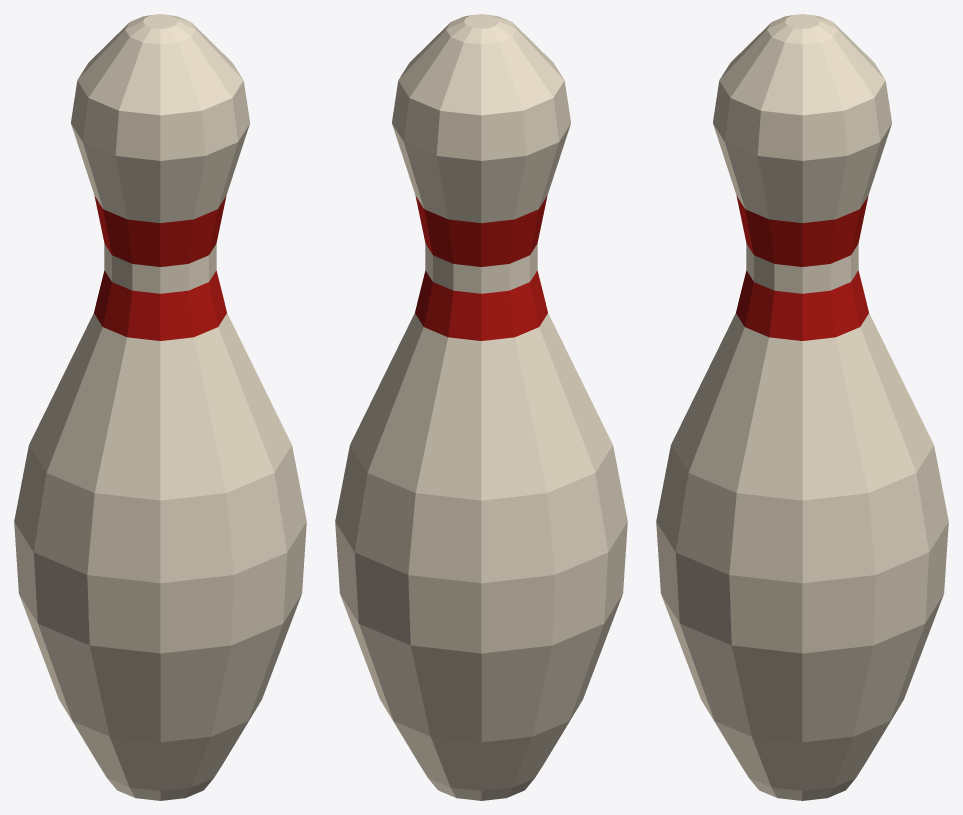
The model's file is BowlingPin.fbx.
3 renders of one model, left to right at view 1: azimuth 30°, elevation 25°; view 2: azimuth 150°, elevation 25°; view 3: azimuth 270°, elevation 25°, orthographic.
Parts seen in each view (by area): view 1: BowlingPin; view 2: BowlingPin; view 3: BowlingPin.
Part boxes in pixels (box(x1,y1,x2,y2)): BowlingPin: box(14, 14, 306, 800); BowlingPin: box(335, 14, 627, 800); BowlingPin: box(656, 14, 948, 800).
Bounding box in the file's own units: 0.1329 × 0.38 × 0.1329.
Materials: 1 (1 with a texture image).
